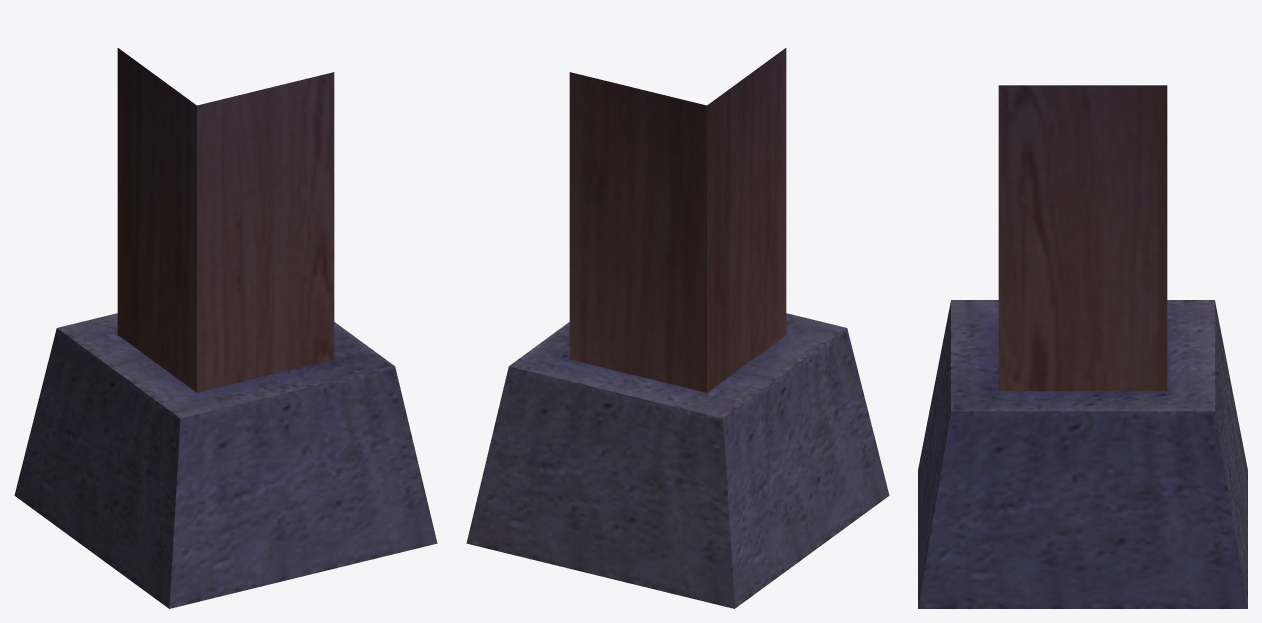
3 renders of one model, left to right at view 1: azimuth 30°, elevation 25°; view 2: azimuth 150°, elevation 25°; view 3: azimuth 270°, elevation 25°, orthographic. The views are drawn at different scales.
Visible parts, largest first — view 1: Joint_0_Object_0; view 2: Joint_0_Object_0; view 3: Joint_0_Object_0.
Boxes of the visible parts, x1,y1,x2,y2 form: Joint_0_Object_0: (14,48,437,608); Joint_0_Object_0: (466,48,889,608); Joint_0_Object_0: (918,85,1247,608).
Size of the model in its own units: 488 by 800 by 488.
Materials: 1 (1 with a texture image).
